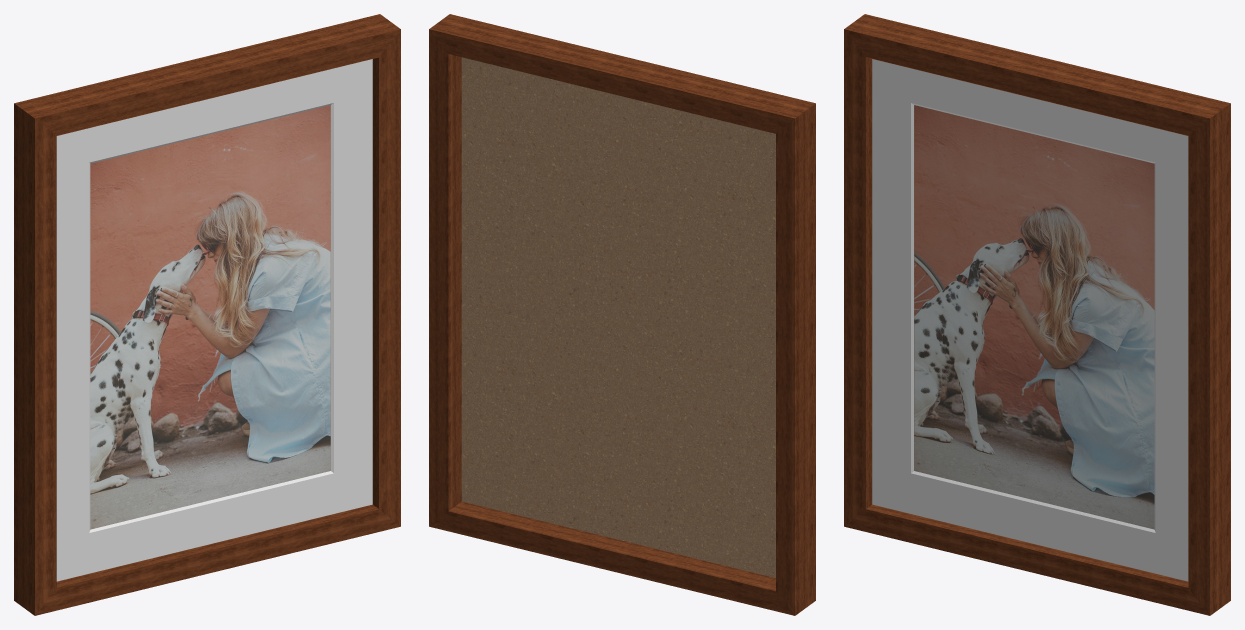
Rendered from ppt-portrait-motif.glb.
The picture shows the model from 3 angles, left to right: view 1: azimuth 30°, elevation 25°; view 2: azimuth 150°, elevation 25°; view 3: azimuth 330°, elevation 25°; orthographic projection.
Visible parts, largest first — view 1: Glass, Motif, Frame, Passepartout; view 2: Back, Frame; view 3: Glass, Motif, Frame, Passepartout.
Part boxes in pixels (x1=…): Glass: x1=57, y1=59, x2=372, y2=581; Motif: x1=90, y1=105, x2=330, y2=529; Frame: x1=14, y1=14, x2=400, y2=615; Passepartout: x1=56, y1=59, x2=372, y2=581; Back: x1=461, y1=57, x2=775, y2=577; Frame: x1=429, y1=14, x2=815, y2=615; Glass: x1=872, y1=59, x2=1187, y2=581; Motif: x1=914, y1=105, x2=1154, y2=529; Frame: x1=844, y1=14, x2=1230, y2=615; Passepartout: x1=872, y1=59, x2=1188, y2=581.
Size of the model in its own units: 0.335 by 0.435 by 0.033.
Materials: 5 (3 with a texture image).
